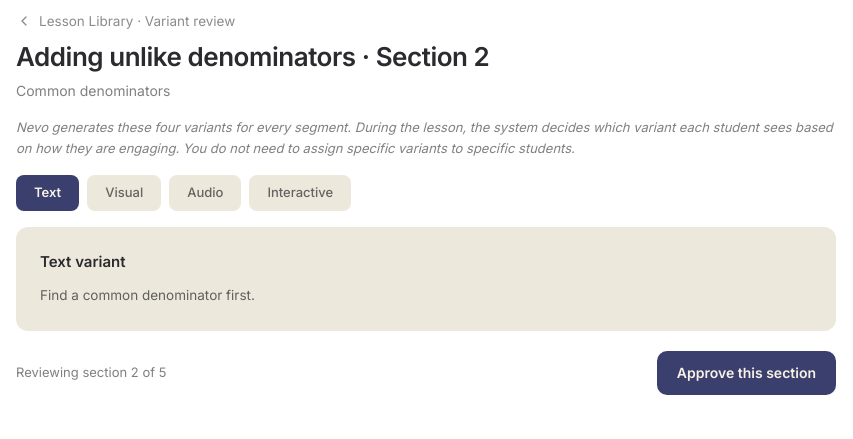
Scenario: approving a section › reports progress from the response, not from a second read
Click the button "Approve this section" at (746, 373), box 657,351 -> 836,395
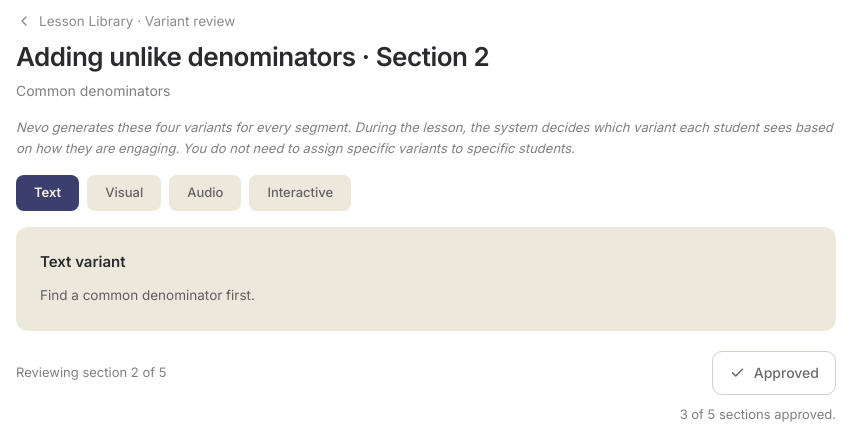
Now the text "3 of 5 sections approved." is shown, box 680,406 -> 836,422
